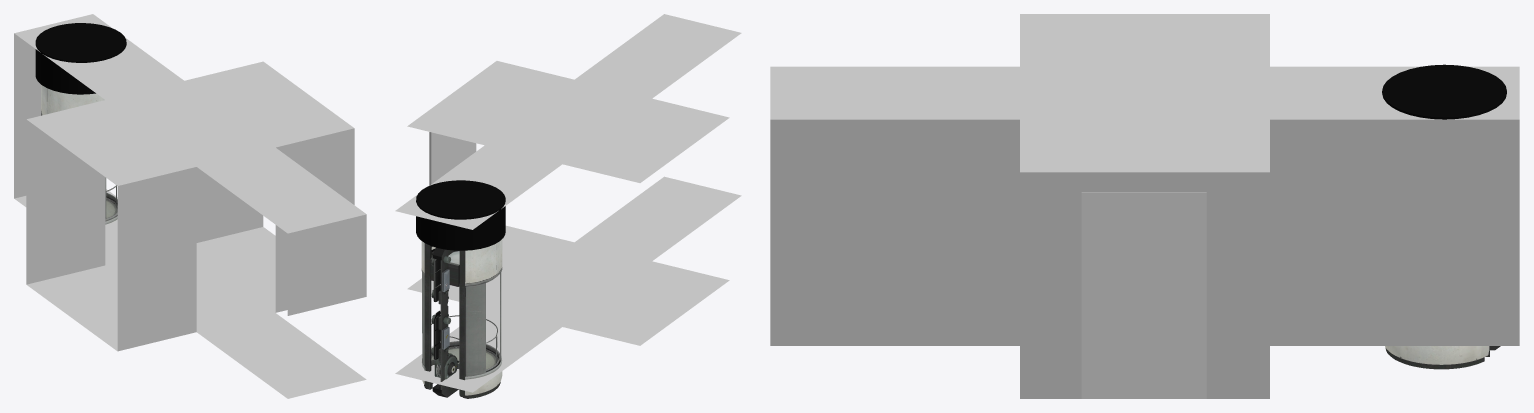
File: corridor.glb
3 renders of one model, left to right at view 1: azimuth 30°, elevation 25°; view 2: azimuth 150°, elevation 25°; view 3: azimuth 270°, elevation 25°, orthographic. The views are drawn at different scales.
Visible parts, largest first — view 1: ceiling, wall, Cylinder, elevatorOBJ; view 2: ceiling, elevatorOBJ, Cylinder, sign; view 3: wall, ceiling, sign, Cylinder, elevatorOBJ.
Boxes of the visible parts, x1,y1,x2,y2 form: ceiling: (14, 14, 366, 398); wall: (14, 33, 366, 351); Cylinder: (35, 23, 126, 94); elevatorOBJ: (41, 85, 117, 224); ceiling: (395, 14, 741, 392); elevatorOBJ: (421, 239, 502, 398); Cylinder: (416, 180, 505, 250); sign: (429, 132, 476, 185); wall: (770, 119, 1519, 398); ceiling: (770, 14, 1519, 172); sign: (1081, 192, 1206, 398); Cylinder: (1382, 64, 1506, 119); elevatorOBJ: (1385, 346, 1500, 369).
Size of what is drawn, in the model's own units: 6.01 by 4.52 by 12.
6 materials, 4 textured.
